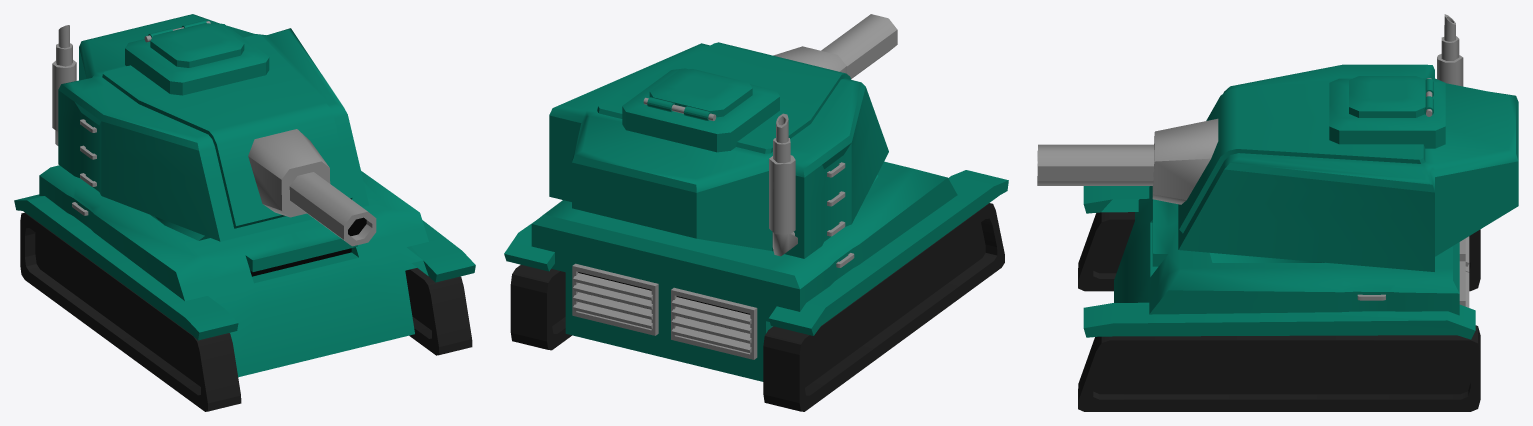
The model's file is low_poly_tank.glb.
3 views of the same model, side by side, from view 1: azimuth 30°, elevation 25°; view 2: azimuth 150°, elevation 25°; view 3: azimuth 270°, elevation 25° (orthographic). The views are drawn at different scales.
Visible parts, largest first — view 1: Tank, Turret, Turret_Barrel, Turret_Barrel_Pipe, Turret_Manhole, SmokePipe; view 2: Tank, Turret, SmokePipe, Turret_Manhole, Turret_Barrel_Pipe, Turret_Barrel; view 3: Tank, Turret, Turret_Barrel_Pipe, Turret_Barrel, Turret_Manhole, SmokePipe.
Part boxes in pixels (left/top/right/bottom): Tank: left=14, top=165, right=475, bottom=411; Turret: left=58, top=14, right=368, bottom=241; Turret_Barrel: left=248, top=129, right=330, bottom=217; Turret_Barrel_Pipe: left=289, top=172, right=376, bottom=246; Turret_Manhole: left=150, top=23, right=244, bottom=67; SmokePipe: left=52, top=25, right=76, bottom=145; Tank: left=504, top=161, right=1008, bottom=411; Turret: left=549, top=42, right=888, bottom=258; SmokePipe: left=769, top=113, right=797, bottom=256; Turret_Manhole: left=649, top=69, right=752, bottom=117; Turret_Barrel_Pipe: left=821, top=14, right=897, bottom=78; Turret_Barrel: left=773, top=46, right=846, bottom=73; Tank: left=1078, top=186, right=1480, bottom=411; Turret: left=1178, top=64, right=1518, bottom=271; Turret_Barrel_Pipe: left=1037, top=144, right=1154, bottom=185; Turret_Barrel: left=1152, top=118, right=1218, bottom=204; Turret_Manhole: left=1349, top=76, right=1425, bottom=117; SmokePipe: left=1437, top=14, right=1463, bottom=86.
Bounding box in the file's own units: 0.4128 × 0.3596 × 0.5711.
